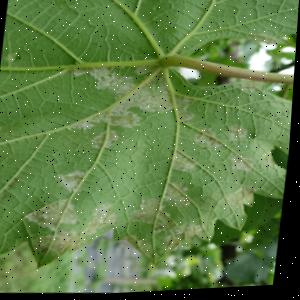Folha: (0, 0, 300, 282)
Fungo: (66, 60, 203, 138), (129, 197, 185, 234), (25, 194, 81, 230), (35, 227, 90, 258), (166, 219, 212, 253), (162, 180, 200, 212), (90, 200, 122, 236), (124, 231, 163, 260), (171, 150, 207, 177), (57, 167, 90, 195), (229, 185, 258, 212), (229, 154, 263, 177), (194, 128, 227, 151), (111, 108, 145, 130), (92, 129, 122, 149), (229, 125, 251, 143), (8, 175, 25, 191), (0, 119, 9, 139)
